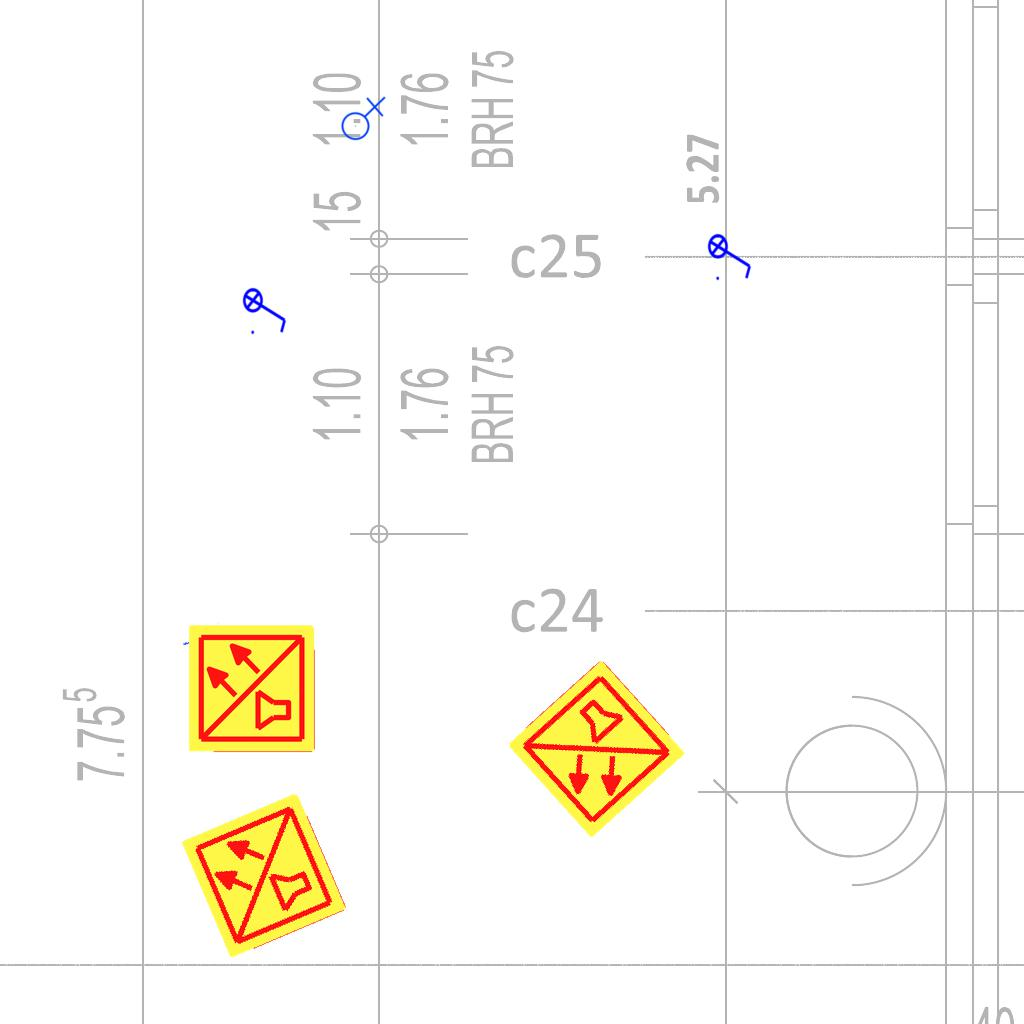Ausschalter_beleuchtet: (707, 227, 755, 283), (242, 281, 290, 337)
Elektroanschluss_allgemein_230V_Geraeteanschlussdose_230V: (337, 94, 386, 141)
OKW_Multisensormelder_(Kombination_optischer_Rauch-Kahlenmonoxid_Waerme-Melder): (502, 655, 690, 843), (177, 788, 351, 962), (186, 622, 318, 754)
Schukosteckdose_einfach: (178, 621, 240, 686)
